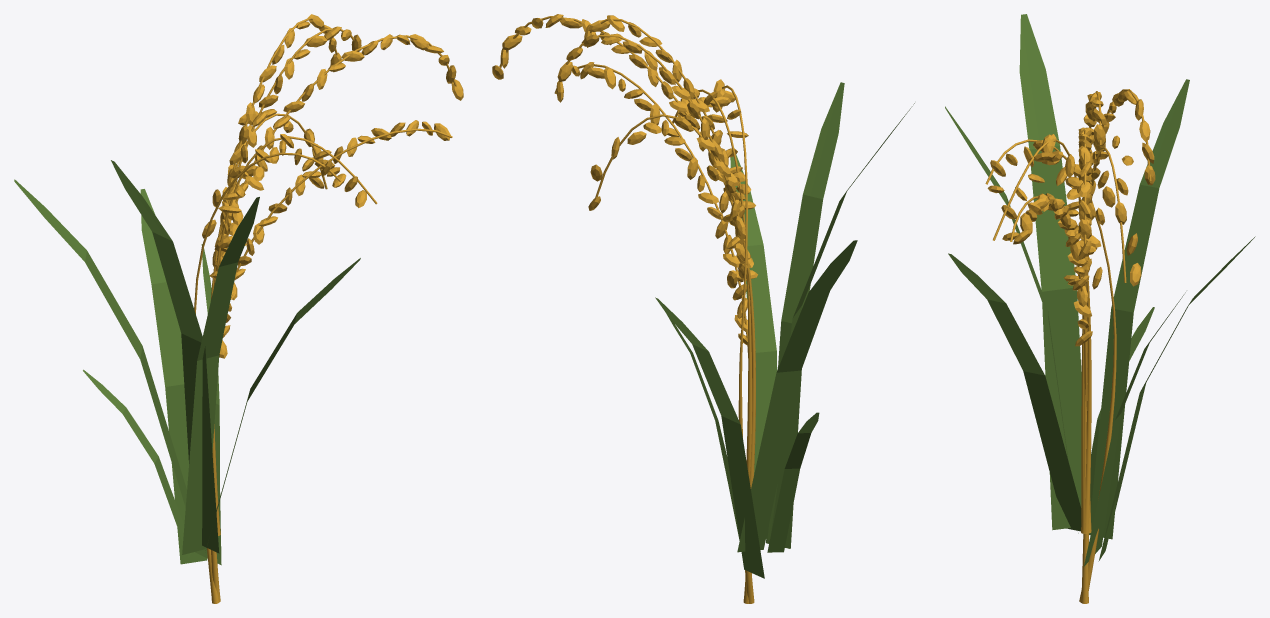
The model's file is kome.fbx.
3 renders of one model, left to right at view 1: azimuth 30°, elevation 25°; view 2: azimuth 150°, elevation 25°; view 3: azimuth 270°, elevation 25°, orthographic. The views are drawn at different scales.
Visible parts, largest first — view 1: 平面, kome, kome.003, kome.004, kome.001, kome.005, kome.002, konekuki.005, konekuki.003, kome.006, konekuki.001, konekuki.002; view 2: 平面, kome.003, kome.001, kome, kome.006, kome.004, konekuki.005, konekuki.006, konekuki.002, kome.005, kome.002, konekuki.003 (+1 smaller); view 3: 平面, kome.003, kome.006, kome.001, konekuki.002, kome, kome.002, konekuki.005, kome.005, konekuki.003, kome.004, konekuki.001 (+2 smaller).
Boxes of the visible parts, bbox=[...] form: 平面: bbox=[14, 160, 360, 565]; kome: bbox=[224, 34, 463, 247]; kome.003: bbox=[219, 120, 450, 358]; kome.004: bbox=[214, 26, 361, 271]; kome.001: bbox=[214, 14, 341, 263]; kome.005: bbox=[209, 140, 346, 297]; kome.002: bbox=[210, 130, 366, 299]; konekuki.005: bbox=[194, 152, 341, 603]; konekuki.003: bbox=[211, 128, 452, 602]; kome.006: bbox=[202, 109, 324, 268]; konekuki.001: bbox=[212, 17, 337, 533]; konekuki.002: bbox=[215, 136, 377, 270]; 平面: bbox=[655, 82, 914, 578]; kome.003: bbox=[572, 62, 748, 344]; kome.001: bbox=[556, 33, 747, 279]; kome: bbox=[492, 14, 747, 272]; kome.006: bbox=[588, 117, 747, 288]; kome.004: bbox=[584, 15, 750, 270]; konekuki.005: bbox=[722, 85, 754, 603]; konekuki.006: bbox=[595, 114, 755, 488]; konekuki.002: bbox=[672, 89, 752, 478]; kome.005: bbox=[698, 79, 757, 279]; kome.002: bbox=[667, 88, 753, 280]; konekuki.003: bbox=[577, 64, 753, 603]; 平面: bbox=[945, 14, 1255, 566]; kome.003: bbox=[1013, 193, 1092, 346]; kome.006: bbox=[1089, 135, 1141, 289]; kome.001: bbox=[1082, 89, 1155, 276]; konekuki.002: bbox=[993, 139, 1091, 533]; kome: bbox=[1078, 127, 1091, 276]; kome.002: bbox=[1001, 134, 1101, 285]; konekuki.005: bbox=[985, 139, 1116, 602]; kome.005: bbox=[987, 134, 1095, 281]; konekuki.003: bbox=[1010, 196, 1088, 603]; kome.004: bbox=[1078, 92, 1106, 275]; konekuki.001: bbox=[1081, 89, 1151, 533].
Bounding box in the file's own units: 209 × 269 × 134.
